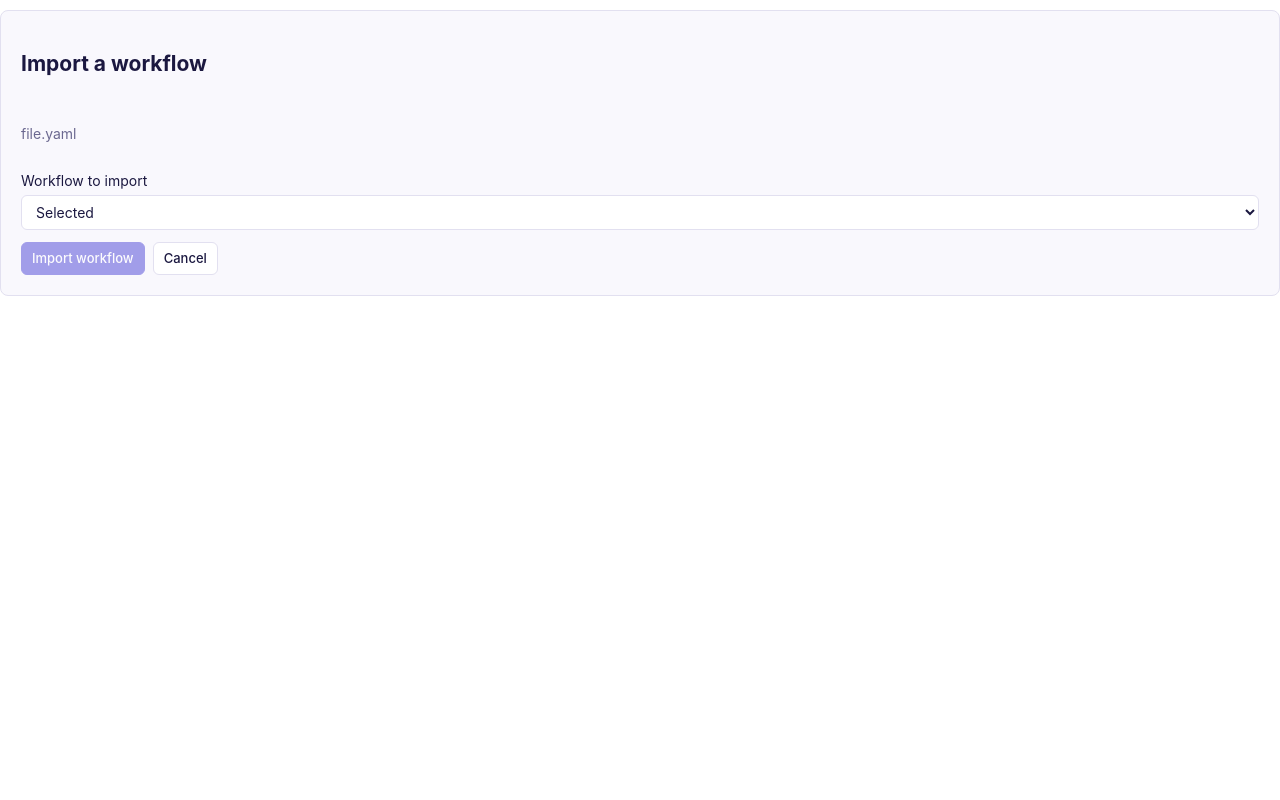
it: workflow import preview › selects the only workflow automatically, but requires a selection in full exports
Expected: the button "Import workflow" is disabled, x1=21 y1=242 x2=145 y2=274
Select "Selected" in the dropdown labelled "Workflow to import" at {"x": 640, "y": 213}, box x1=21 y1=195 x2=1259 y2=230
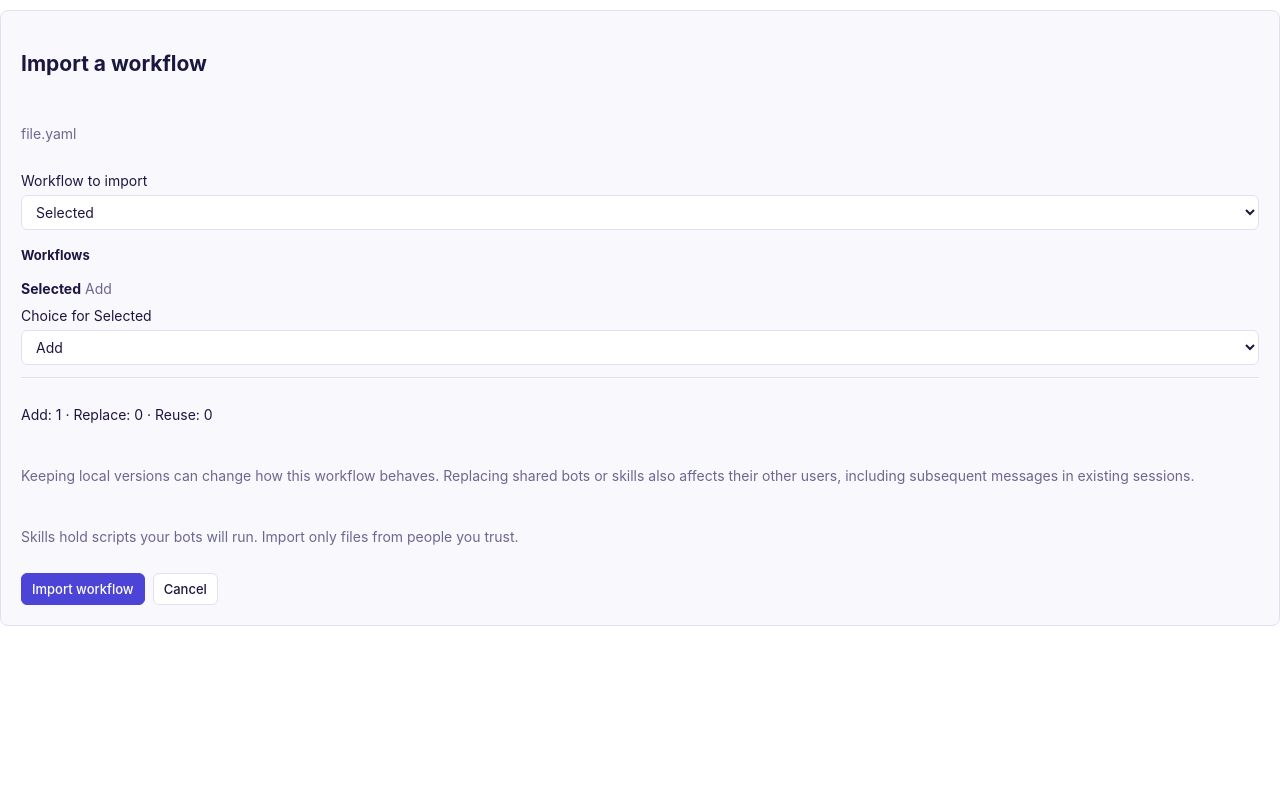
Expected: the button "Import workflow" is enabled, x1=21 y1=573 x2=145 y2=605
